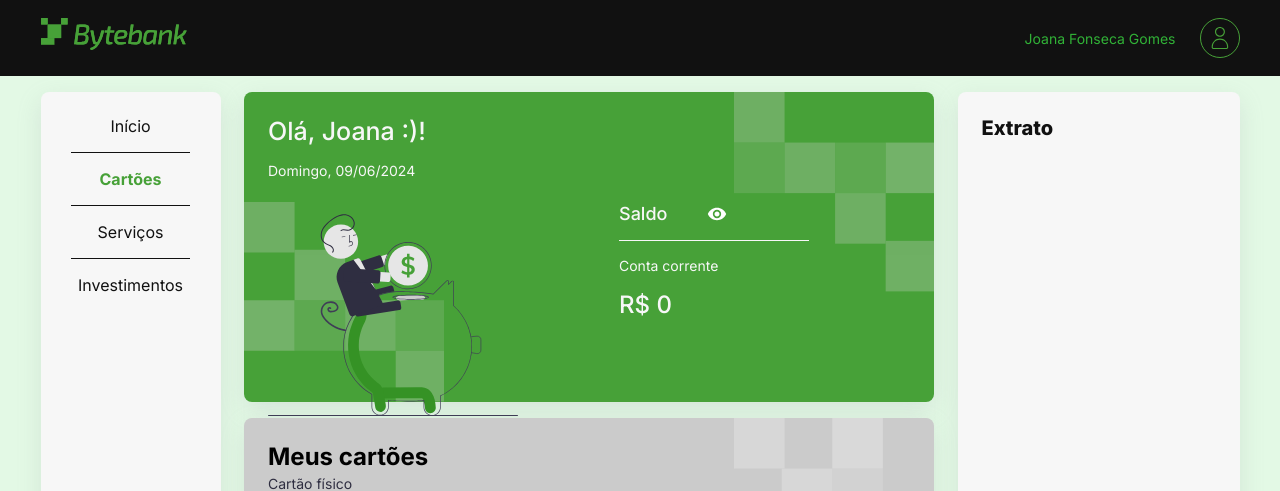
App test integrity › must navigate to clicked link Investimentos
Click the link "Investimentos": (130, 285) x1=78 y1=275 x2=183 y2=295
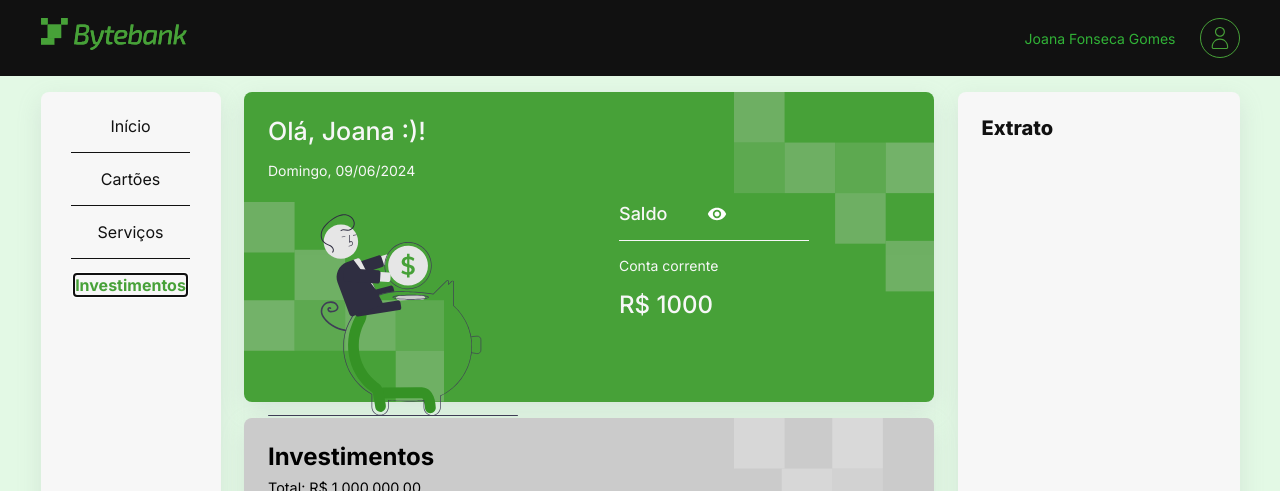
Now the heading "Investimentos" is shown, box x1=268 y1=442 x2=434 y2=471
